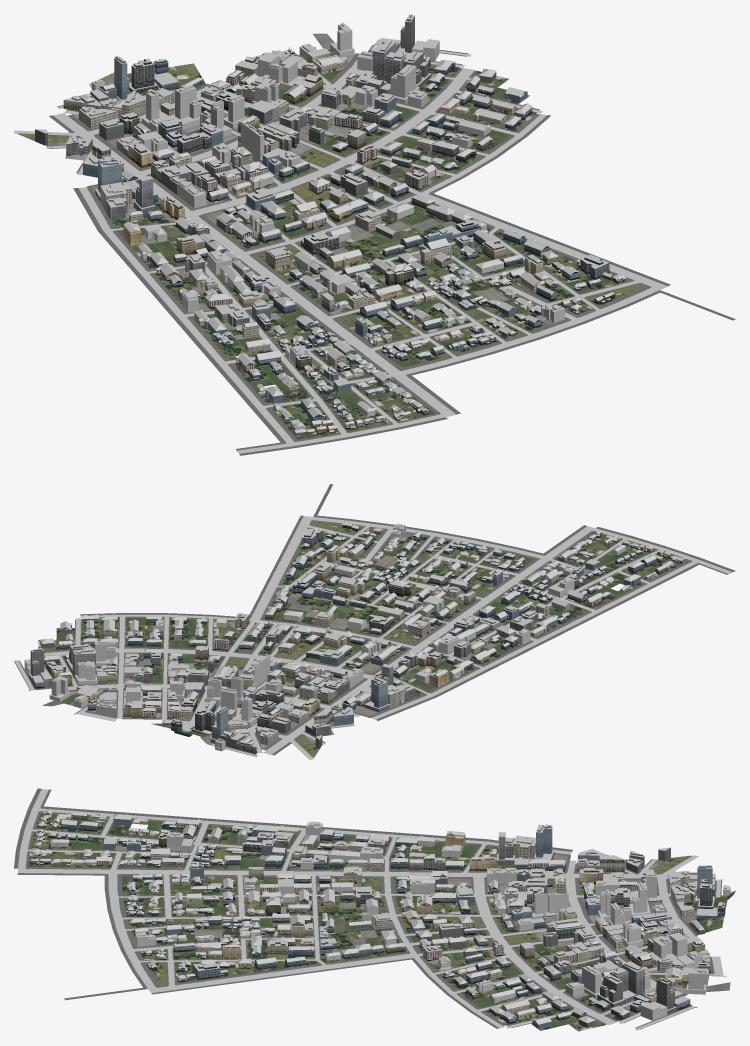
File: City_day_0.obj
3 views of the same model, one above another, from view 1: azimuth 30°, elevation 25°; view 2: azimuth 150°, elevation 25°; view 3: azimuth 270°, elevation 25° (orthographic). The views are drawn at different scales.
Visible parts, largest first — view 1: Street, Pavement, Curbs, FacadeTexture_5, FacadeTexture_3, FacadeTexture_4, FacadeTexture_18, FacadeTexture_6, FacadeTexture_8, FacadeTexture, FacadeTexture_15, FacadeTexture_11 (+58 smaller); view 2: Street, Pavement, Curbs, FacadeTexture_5, FacadeTexture_3, FacadeTexture_6, FacadeTexture_8, FacadeTexture_15, FacadeTexture_4, FacadeTexture_18, FacadeTexture_11, FacadeTexture (+52 smaller); view 3: Street, Pavement, Curbs, FacadeTexture_3, FacadeTexture_5, FacadeTexture_4, FacadeTexture_6, FacadeTexture_8, FacadeTexture, FacadeTexture_11, FacadeTexture_15, FacadeTexture_18 (+70 smaller).
Part boxes in pixels (x1,y1,x2,y2): Street: (14, 50, 660, 453); Pavement: (18, 48, 735, 455); Curbs: (18, 50, 735, 453); FacadeTexture_5: (148, 42, 585, 421); FacadeTexture_3: (122, 56, 601, 420); FacadeTexture_4: (141, 41, 439, 312); FacadeTexture_18: (66, 41, 405, 396); FacadeTexture_6: (83, 56, 527, 403); FacadeTexture_8: (92, 23, 532, 416); FacadeTexture: (78, 64, 543, 415); FacadeTexture_15: (123, 72, 581, 429); FacadeTexture_11: (35, 15, 496, 437); Street: (14, 517, 732, 759); Pavement: (14, 484, 735, 757); Curbs: (14, 484, 732, 756); FacadeTexture_5: (31, 533, 642, 712); FacadeTexture_3: (44, 533, 656, 736); FacadeTexture_6: (60, 546, 640, 743); FacadeTexture_8: (49, 543, 625, 751); FacadeTexture_15: (142, 529, 653, 719); FacadeTexture_4: (24, 616, 530, 726); FacadeTexture_18: (69, 553, 594, 736); FacadeTexture_11: (29, 557, 686, 749); FacadeTexture: (104, 547, 658, 745); Street: (18, 789, 723, 1030); Pavement: (14, 788, 724, 1029); Curbs: (14, 789, 725, 1028); FacadeTexture_3: (57, 821, 725, 1019); FacadeTexture_5: (40, 830, 710, 1023); FacadeTexture_4: (300, 823, 709, 1020); FacadeTexture_6: (103, 818, 712, 1029); FacadeTexture_8: (51, 842, 730, 994); FacadeTexture: (71, 814, 696, 1012); FacadeTexture_11: (44, 811, 714, 1028); FacadeTexture_15: (31, 823, 682, 963); FacadeTexture_18: (83, 832, 644, 1002).
Bounding box in the file's own units: 945 × 65.2 × 1185.
